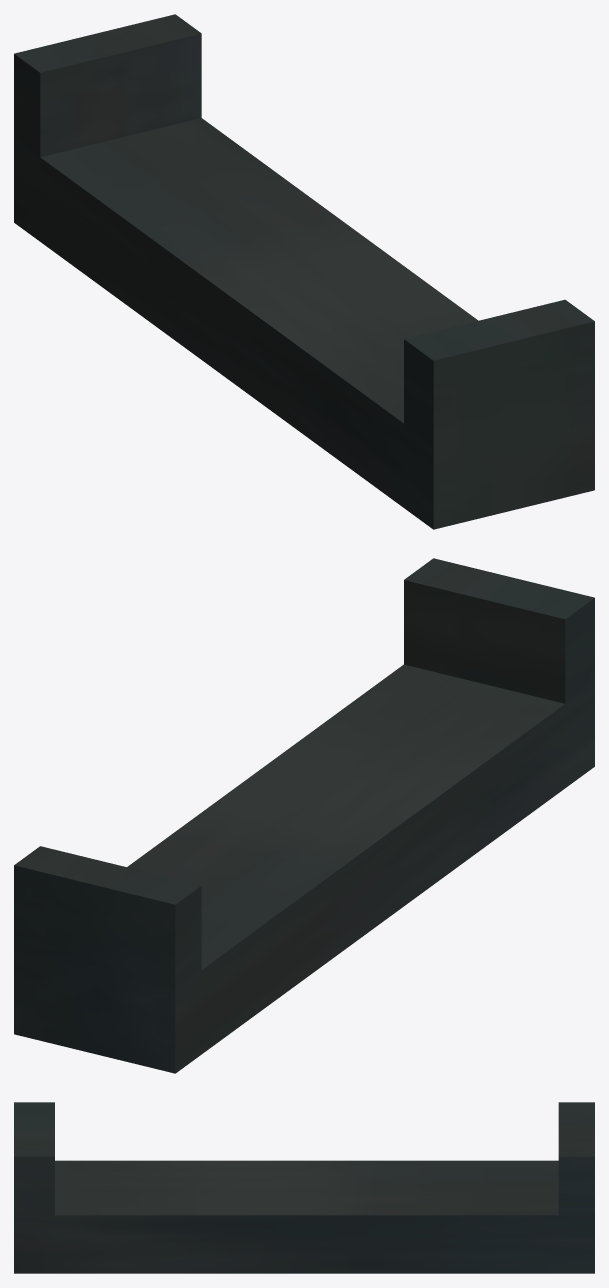
Rendered from bar_light_base.fbx.
The picture shows the model from 3 angles, top to bottom: view 1: azimuth 30°, elevation 25°; view 2: azimuth 150°, elevation 25°; view 3: azimuth 270°, elevation 25°; orthographic projection. The views are drawn at different scales.
Parts seen in each view (by area): view 1: Cube; view 2: Cube; view 3: Cube.
Boxes of the visible parts, x1,y1,x2,y2 form: Cube: [14, 14, 594, 529]; Cube: [14, 558, 594, 1073]; Cube: [14, 1102, 594, 1273].
Size of the model in its own units: 20 by 20 by 90.
